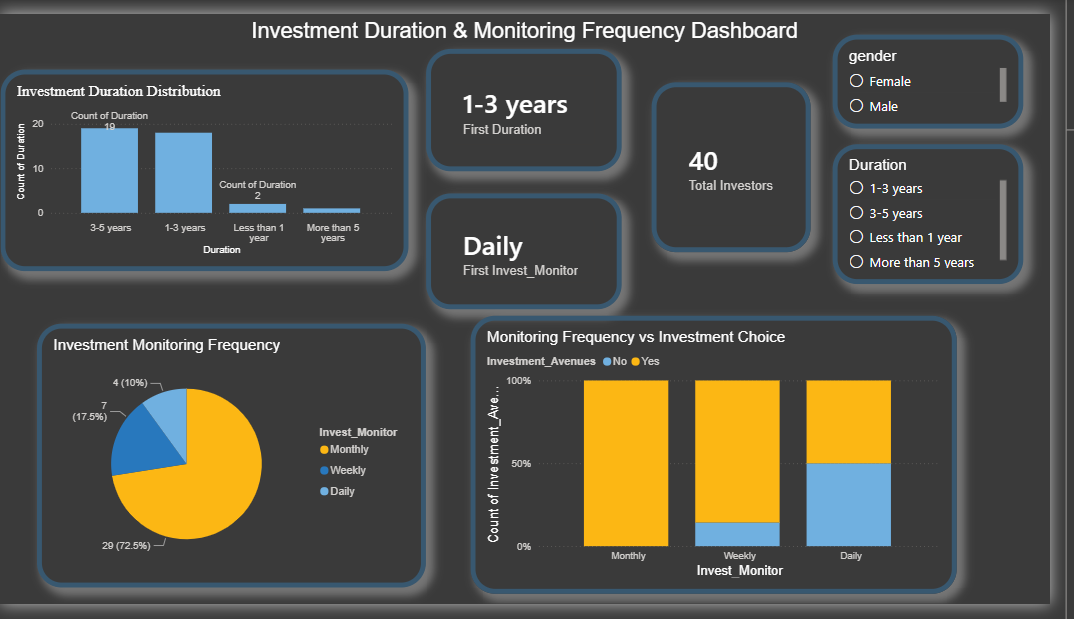

The page's visual inventory and layout, read from the dashboard file:
{"tool":"powerbi","page":{"name":"Task 4","canvas":[1280,720],"ordinal":3},"visuals":[{"type":"textbox","box":[0,0,1279.4,67.8],"z":0},{"type":"cardVisual","fields":{"Data":["Data_set 2.Total Investors"]},"box":[794.8,83.4,193.8,207.4],"z":1},{"type":"cardVisual","fields":{"Data":["Min(Data_set 2.Duration)"]},"box":[519.5,42.6,238.4,149.3],"z":2},{"type":"cardVisual","fields":{"Data":["Min(Data_set 2.Invest_Monitor)"]},"box":[519.5,219,238.4,141.5],"z":3},{"type":"clusteredColumnChart","title":"Investment Duration Distribution","fields":{"Category":["Data_set 2.Duration"],"Y":["CountNonNull(Data_set 2.Duration)"]},"box":[0,67.8,498.2,246.2],"z":4},{"type":"pieChart","title":"Investment Monitoring Frequency","fields":{"Category":["Data_set 2.Invest_Monitor"],"Y":["CountNonNull(Data_set 2.Invest_Monitor)"]},"box":[44.6,378,474.9,321.8],"z":5},{"type":"hundredPercentStackedColumnChart","title":"Monitoring Frequency vs Investment Choice","fields":{"Category":["Data_set 2.Invest_Monitor"],"Y":["CountNonNull(Data_set 2.Investment_Avenues)"],"Series":["Data_set 2.Investment_Avenues"]},"box":[573.8,368.3,593.2,339.2],"z":6},{"type":"listSlicer","fields":{"Values":["Data_set 2.gender"]},"box":[1015.7,25.2,232.6,114.4],"z":7},{"type":"listSlicer","fields":{"Values":["Data_set 2.Duration"]},"box":[1015.7,159,232.6,170.6],"z":8}]}

Visuals, with their boxes in screenshot pixels (x1, y1, x2, y2), scaled from the page's 1280x720 canvas onto the 1074x619 screenshot:
textbox: left=0, top=0, right=1073, bottom=58
cardVisual - Data_set 2.Total Investors: left=667, top=72, right=829, bottom=250
cardVisual - Min(Data_set 2.Duration): left=436, top=37, right=636, bottom=165
cardVisual - Min(Data_set 2.Invest_Monitor): left=436, top=188, right=636, bottom=310
"Investment Duration Distribution" clusteredColumnChart: left=0, top=58, right=418, bottom=270
"Investment Monitoring Frequency" pieChart: left=37, top=325, right=436, bottom=602
"Monitoring Frequency vs Investment Choice" hundredPercentStackedColumnChart: left=481, top=317, right=979, bottom=608
listSlicer - Data_set 2.gender: left=852, top=22, right=1047, bottom=120
listSlicer - Data_set 2.Duration: left=852, top=137, right=1047, bottom=283
